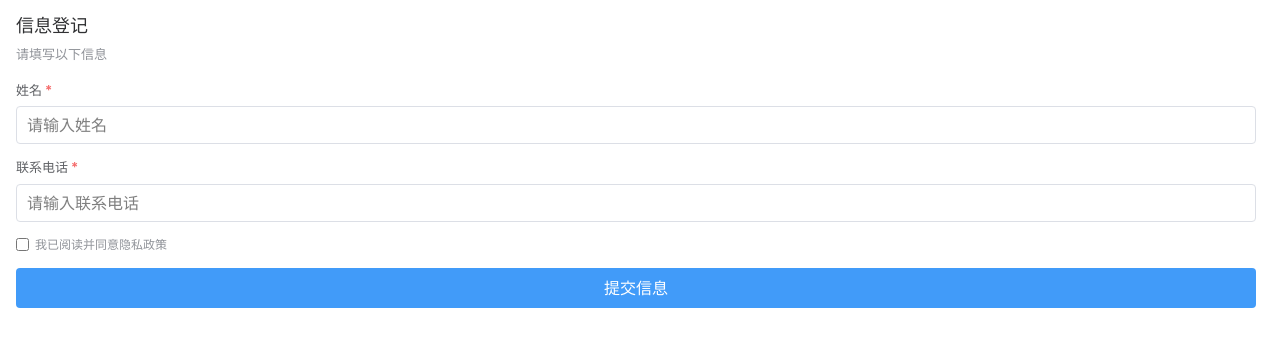
BusinessFormBlock 真实提交链路 › 11. 提交失败后显示失败信息并保留输入
Step 1. Type "张三" into the field with class "field-control" showing "姓名*" → (636, 125), box [16,106,1256,144]
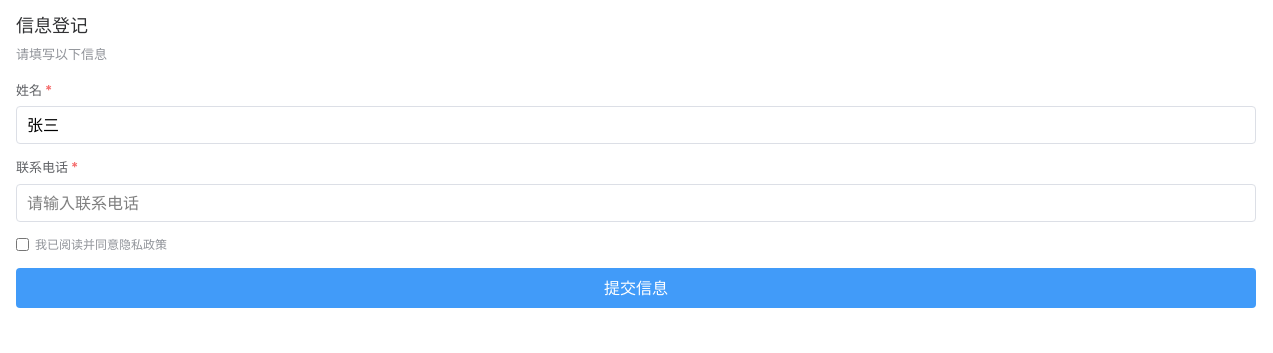
Step 2. Type "13800138000" into the field with class "field-control" showing "联系电话*" → (636, 202), box [16,184,1256,222]
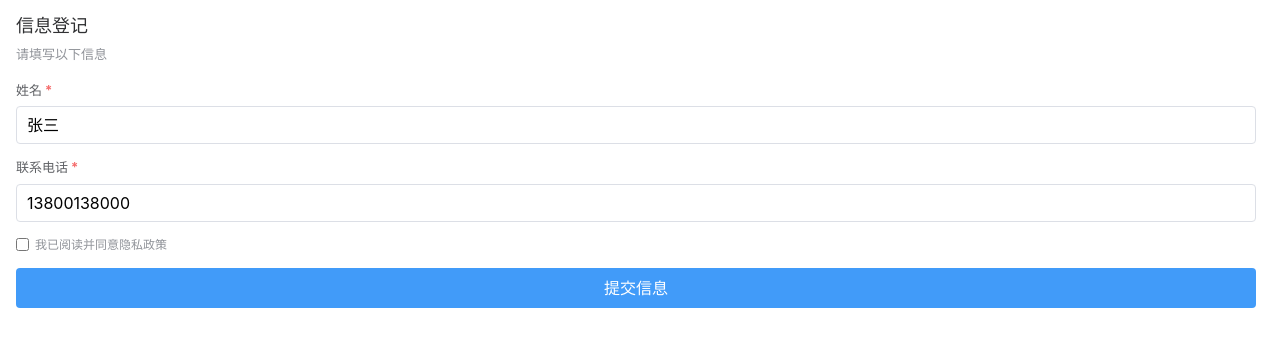
Step 3. Click the checkbox labelled "我已阅读并同意隐私政策" → (22, 244), box [16,238,29,251]
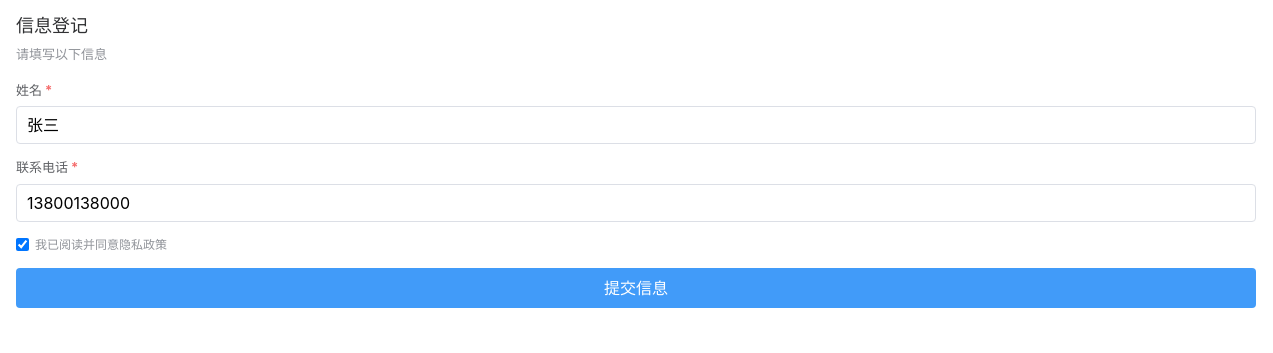
Step 4. Submit the form
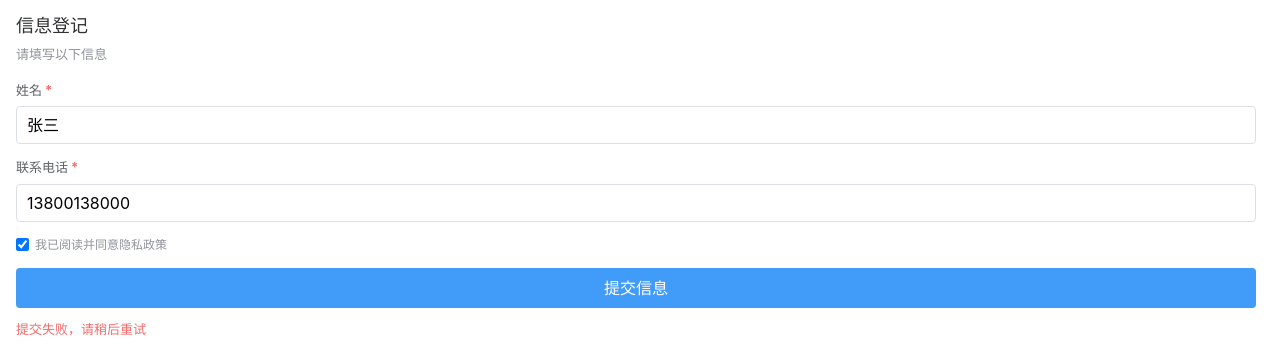
Now the text "提交失败，请稍后重试" is shown, box [16,320,146,336]
